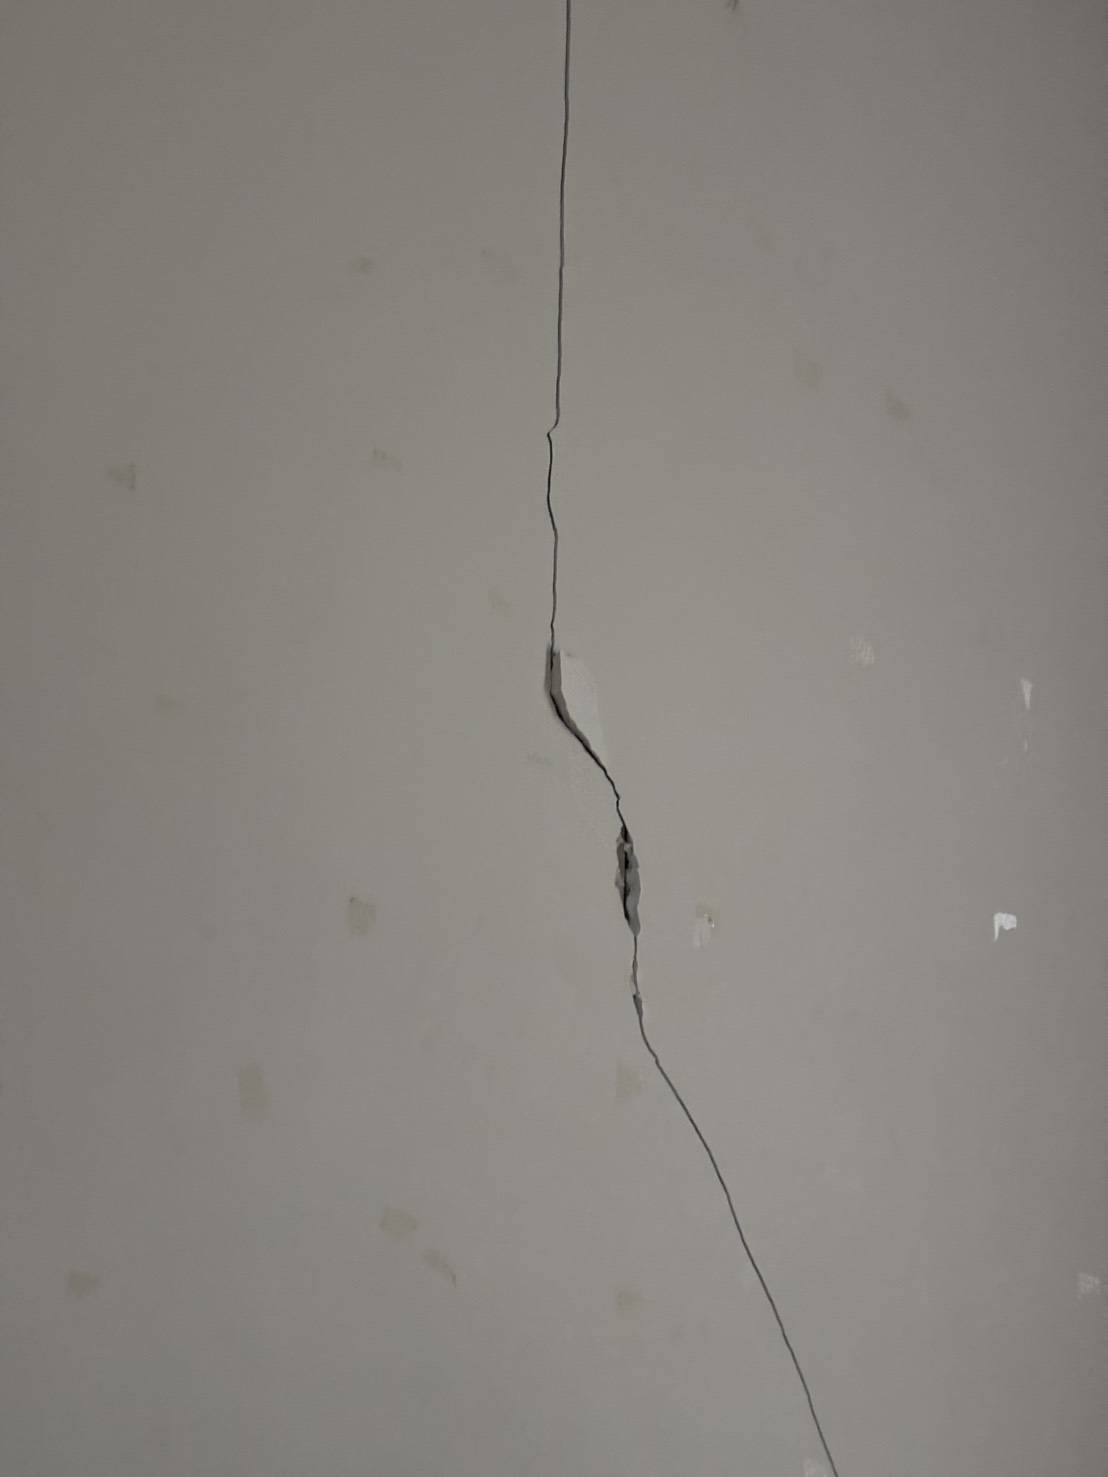Medium: (448, 487, 861, 1460)
